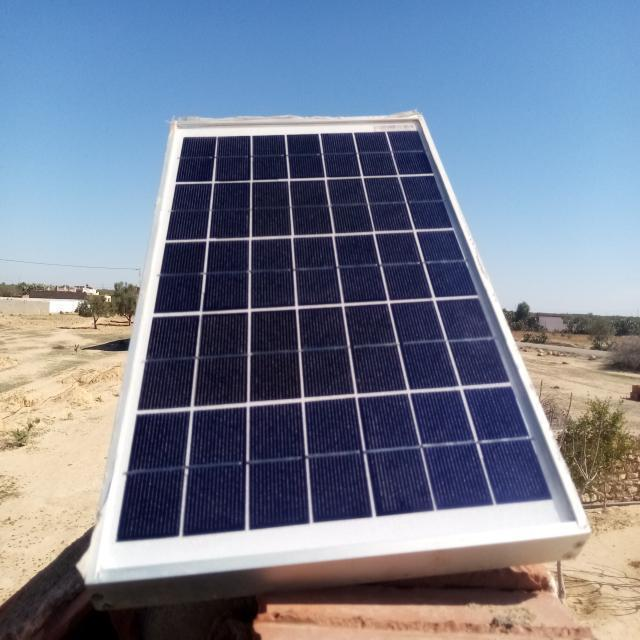Normal Solar Panel: (91, 117, 591, 581)
